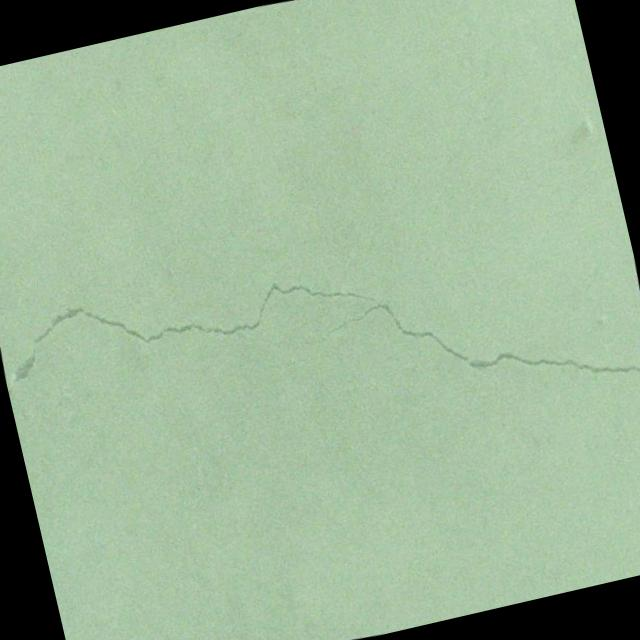crack: (0, 140, 640, 521), (21, 107, 88, 270), (0, 62, 22, 107)
